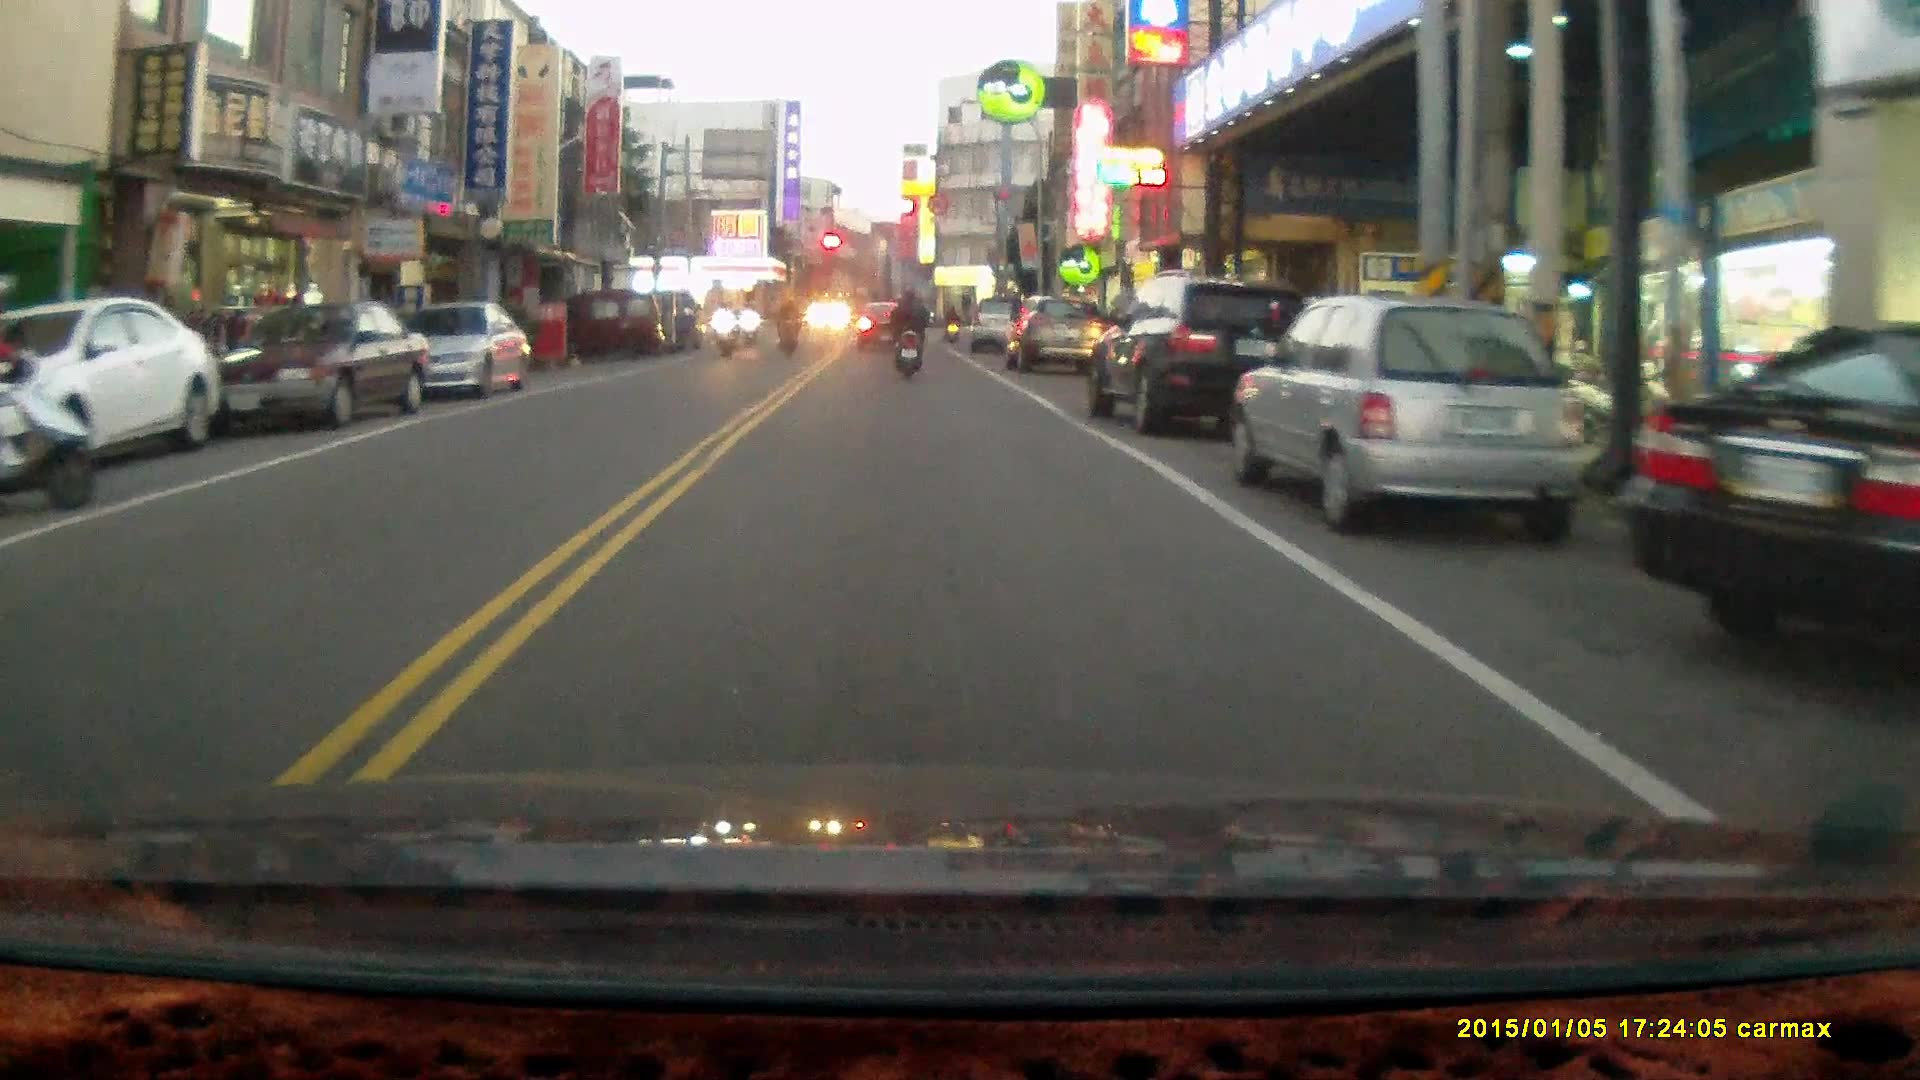rider: (0, 269, 100, 512), (886, 286, 927, 379), (712, 296, 739, 357), (773, 294, 801, 352), (736, 295, 761, 350), (939, 300, 961, 344)
vehicle: (1629, 316, 1920, 691), (1221, 296, 1597, 538), (2, 289, 229, 482), (1081, 272, 1315, 439), (181, 295, 429, 427), (386, 297, 532, 402), (1015, 292, 1113, 376), (582, 290, 664, 358), (970, 296, 1035, 352)
